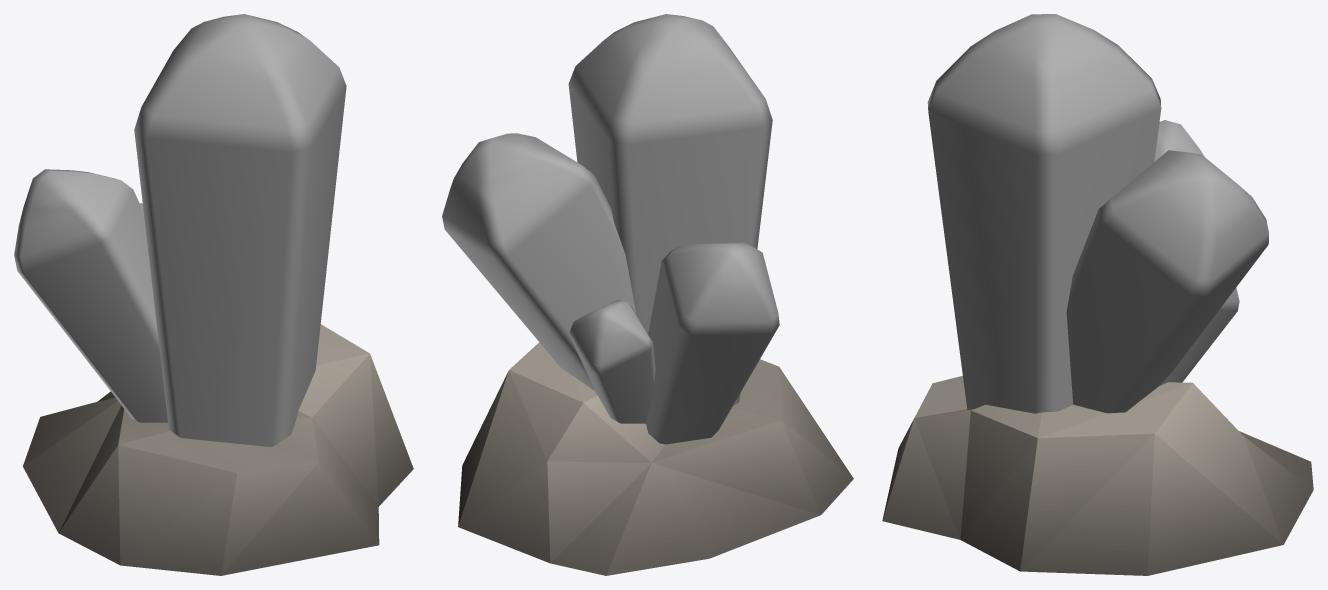
File: SM_Crystal_Node_1.fbx
3 views of the same model, side by side, from view 1: azimuth 30°, elevation 25°; view 2: azimuth 150°, elevation 25°; view 3: azimuth 270°, elevation 25° (orthographic). The views are drawn at different scales.
Visible parts, largest first — view 1: Crystal_Node_1; view 2: Crystal_Node_1; view 3: Crystal_Node_1.
Boxes of the visible parts, <box> form: Crystal_Node_1: <box>14,14,413,575</box>; Crystal_Node_1: <box>442,14,853,575</box>; Crystal_Node_1: <box>882,14,1313,575</box>.
Bounding box in the file's own units: 206 × 275 × 227.
Materials: 2 (1 with a texture image).
